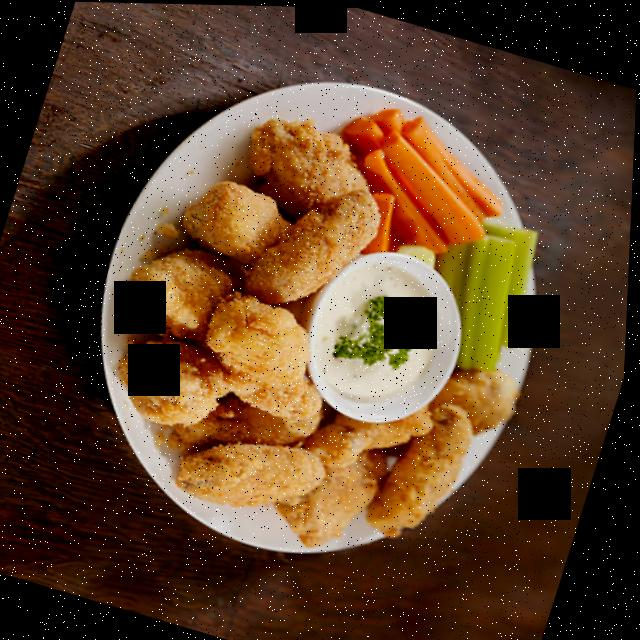Frango: (71, 78, 590, 587)
